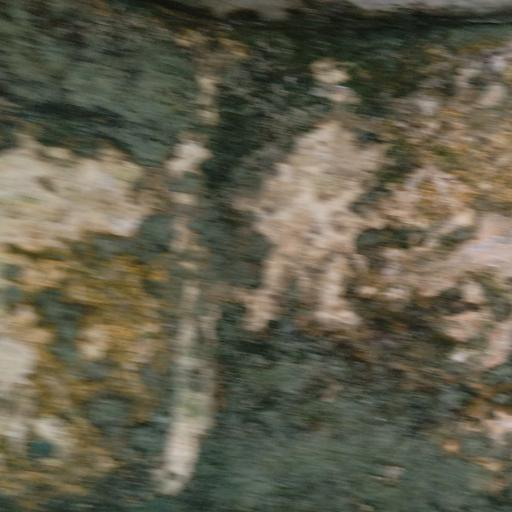algae: (0, 3, 512, 512)
